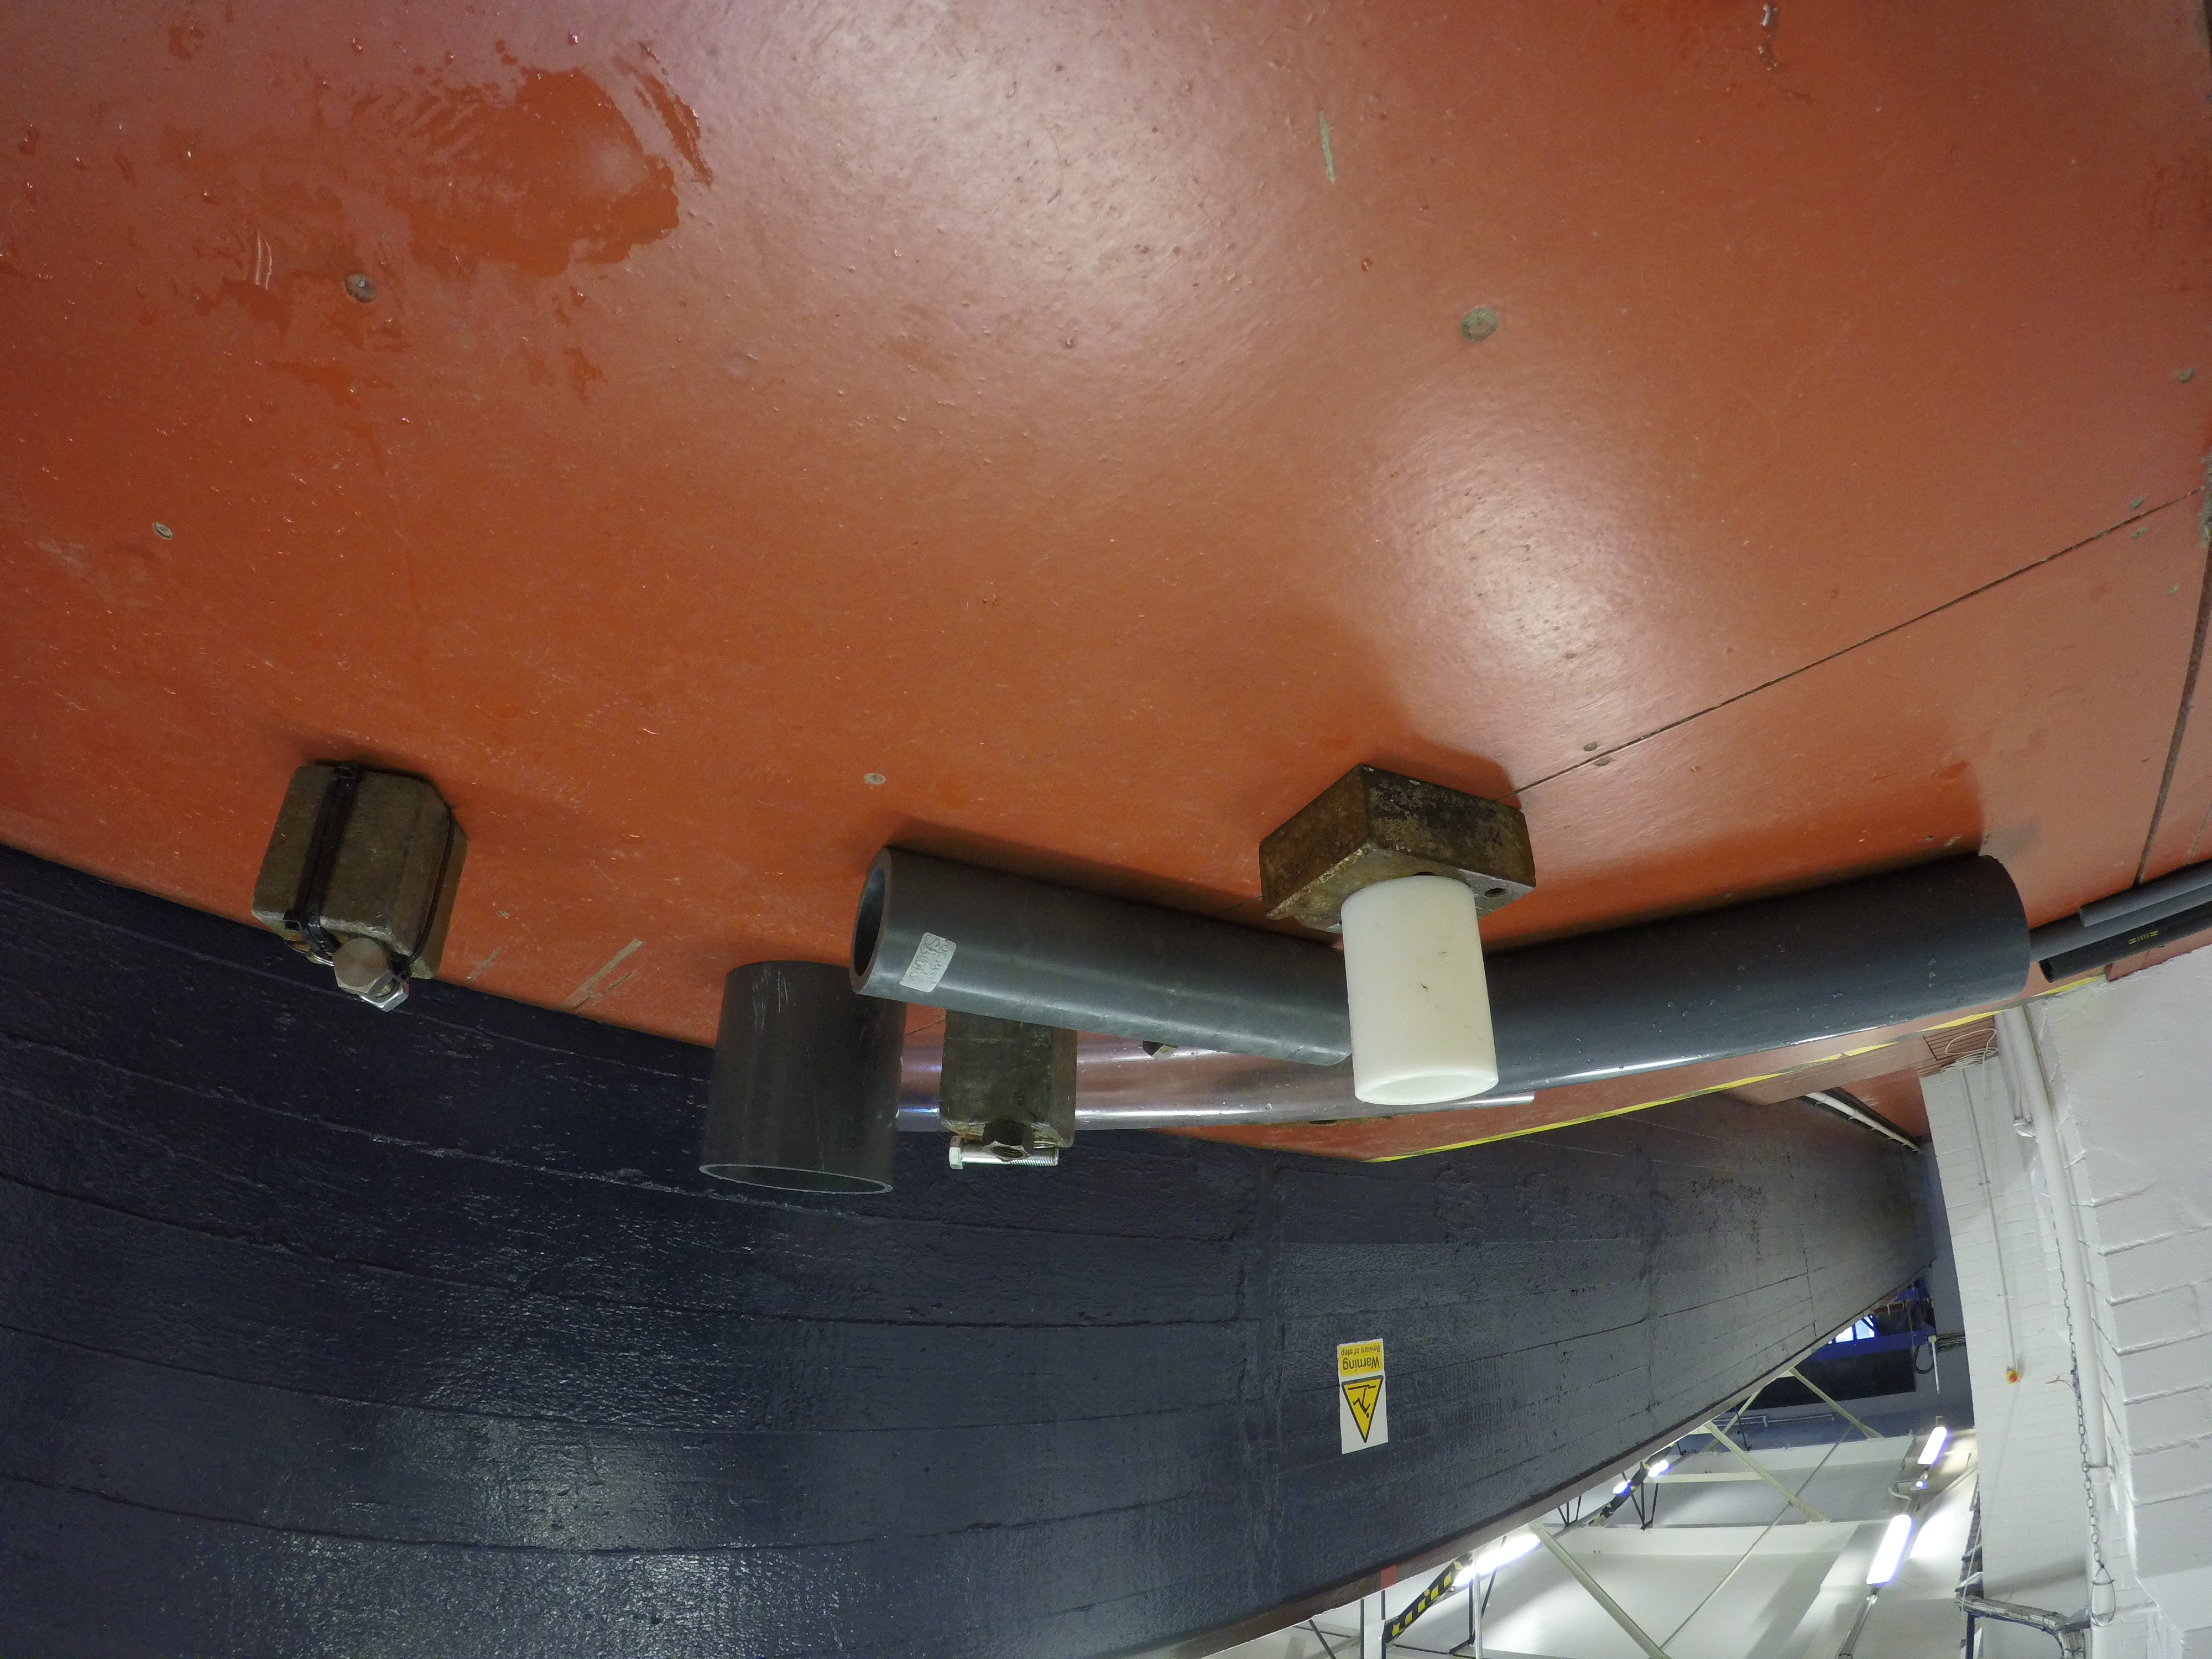bolt: (331, 938, 409, 1014), (948, 1136, 1061, 1171)
flange: (1224, 1115, 1407, 1129)
lead_block: (251, 760, 470, 976), (1258, 762, 1536, 925), (937, 1011, 1080, 1148)
nut: (981, 1121, 1035, 1164), (362, 981, 411, 1014), (1141, 1040, 1177, 1060)
pipe: (1489, 854, 2031, 1101), (850, 847, 1352, 1073), (698, 964, 907, 1195), (1052, 1030, 1536, 1129), (1341, 877, 1501, 1105), (2029, 885, 2212, 965), (2038, 901, 2212, 983), (2076, 859, 2210, 927)
